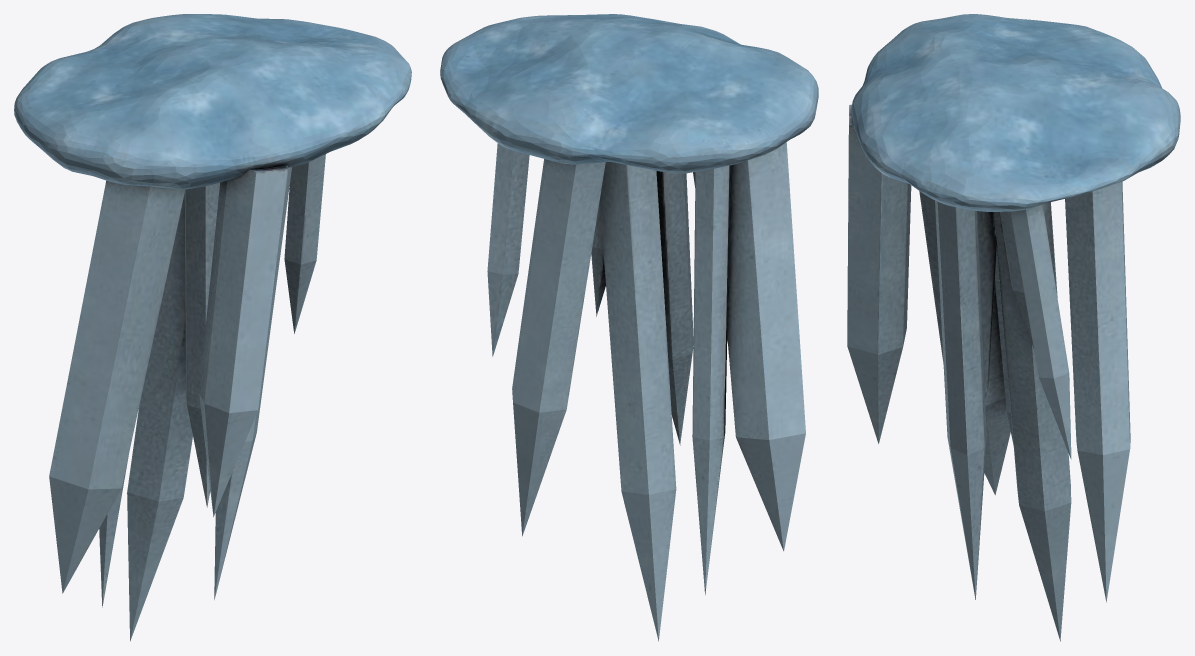
The model's file is dg_estalactite_gelo.glb.
3 renders of one model, left to right at view 1: azimuth 30°, elevation 25°; view 2: azimuth 150°, elevation 25°; view 3: azimuth 270°, elevation 25°, orthographic. The views are drawn at different scales.
Visible parts, largest first — view 1: dg_estalactite_gelo_tronco; view 2: dg_estalactite_gelo_tronco; view 3: dg_estalactite_gelo_tronco.
Part boxes in pixels (box(x1,y1,x2,y2)): dg_estalactite_gelo_tronco: box(14, 14, 411, 641); dg_estalactite_gelo_tronco: box(440, 14, 818, 641); dg_estalactite_gelo_tronco: box(847, 14, 1180, 641).
Bounding box in the file's own units: 1.75 × 2.76 × 1.39.
1 material, 1 textured.
